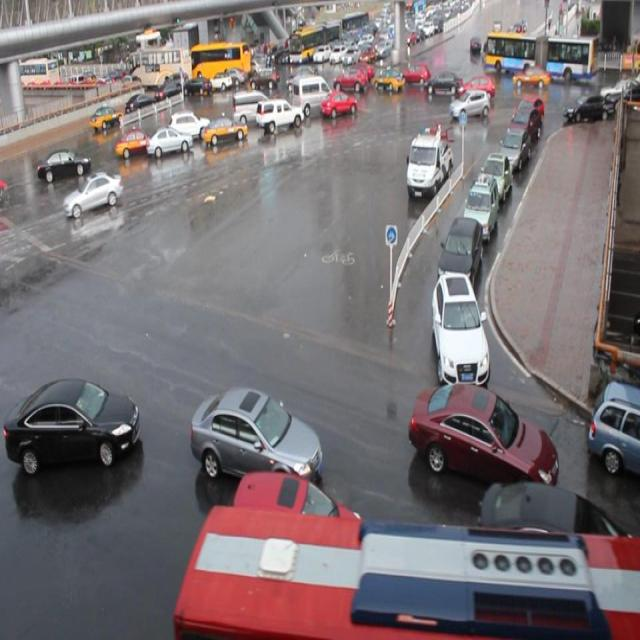bus: (405, 131, 451, 195)
car: (408, 382, 557, 492), (476, 476, 628, 580), (0, 374, 140, 470), (190, 386, 323, 487), (233, 468, 362, 562), (430, 270, 490, 384), (586, 378, 640, 473), (434, 214, 482, 287), (63, 170, 123, 218), (462, 176, 499, 240), (477, 152, 511, 208), (38, 145, 91, 177), (202, 112, 247, 146), (255, 98, 302, 130), (495, 124, 527, 170), (507, 106, 539, 150), (168, 110, 211, 139), (146, 126, 192, 153), (448, 90, 488, 119), (517, 94, 543, 132), (115, 128, 156, 152), (321, 90, 358, 115)
truck: (292, 77, 333, 113), (232, 90, 274, 122)
van: (168, 506, 640, 640)
